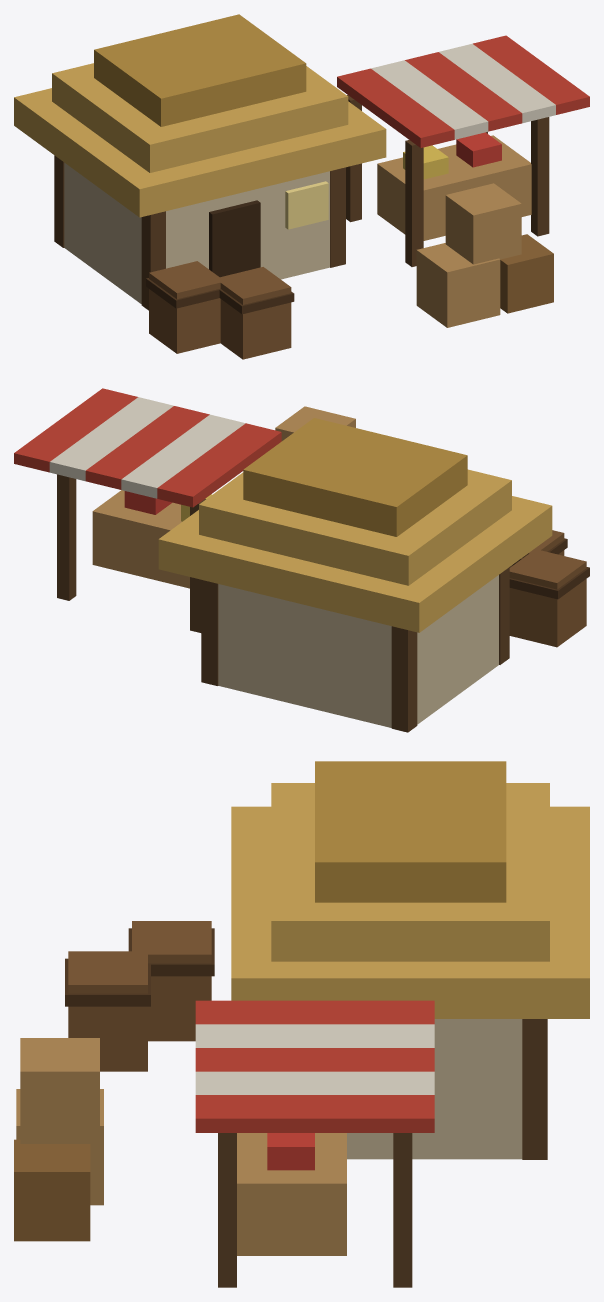
File: village_merchant.glb
3 renders of one model, top to bottom at view 1: azimuth 30°, elevation 25°; view 2: azimuth 150°, elevation 25°; view 3: azimuth 270°, elevation 25°, orthographic. The views are drawn at different scales.
Parts seen in each view (by area): view 1: village_merchant; view 2: village_merchant; view 3: village_merchant.
Part boxes in pixels (box(x1,y1,x2,y2)): village_merchant: box(14, 14, 589, 359); village_merchant: box(14, 388, 589, 732); village_merchant: box(14, 761, 589, 1287).
Bounding box in the file's own units: 4.53 × 1.95 × 3.62.
